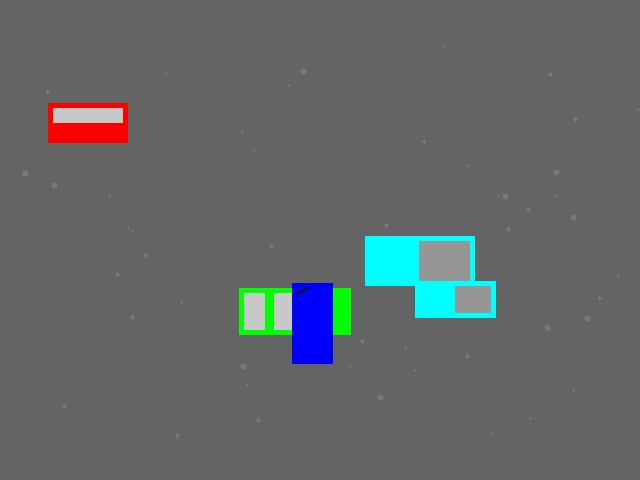bus: (239, 288, 350, 334)
car: (48, 103, 127, 142)
motorcycle: (292, 283, 332, 363)
truck: (365, 236, 474, 285), (415, 281, 495, 317)
